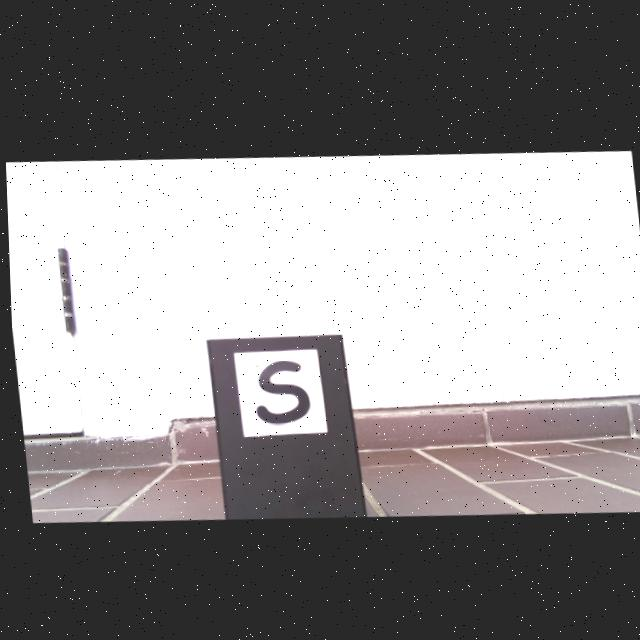S: (252, 358, 306, 421)
